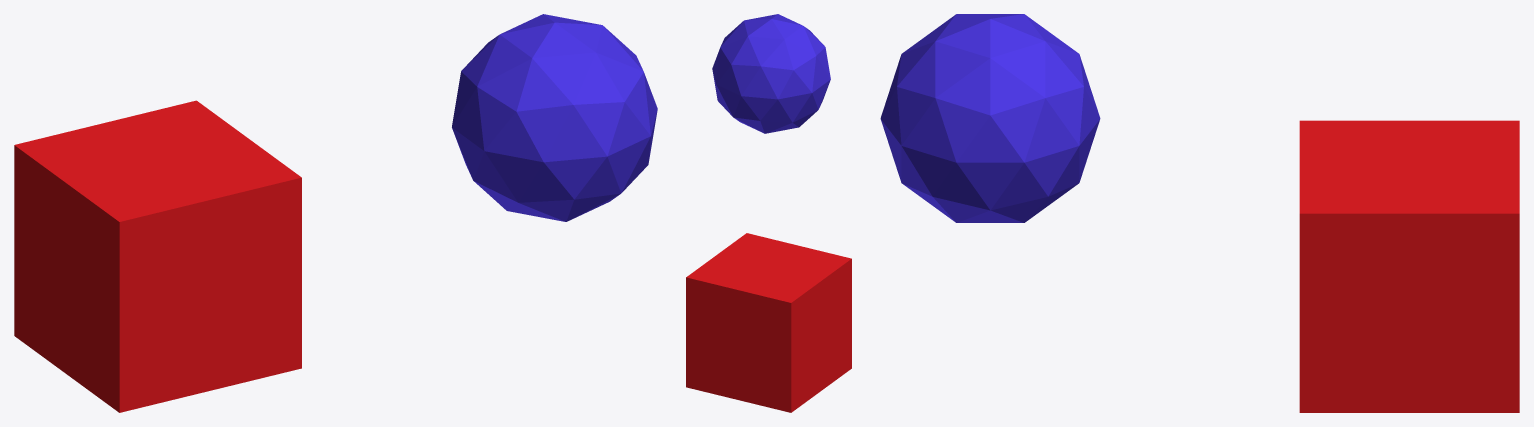
The model's file is sphereandbox.gltf.
3 views of the same model, side by side, from view 1: azimuth 30°, elevation 25°; view 2: azimuth 150°, elevation 25°; view 3: azimuth 270°, elevation 25° (orthographic). The views are drawn at different scales.
Visible parts, largest first — view 1: Cube, Icosphere; view 2: Cube, Icosphere; view 3: Cube, Icosphere.
Boxes of the visible parts, left/top/right/bottom form: Cube: left=14, top=100, right=301, bottom=412; Icosphere: left=452, top=14, right=657, bottom=221; Cube: left=686, top=233, right=851, bottom=412; Icosphere: left=712, top=14, right=830, bottom=133; Cube: left=1299, top=120, right=1519, bottom=412; Icosphere: left=880, top=14, right=1100, bottom=222.
Size of the model in its own units: 4.1 by 4.49 by 5.81.
